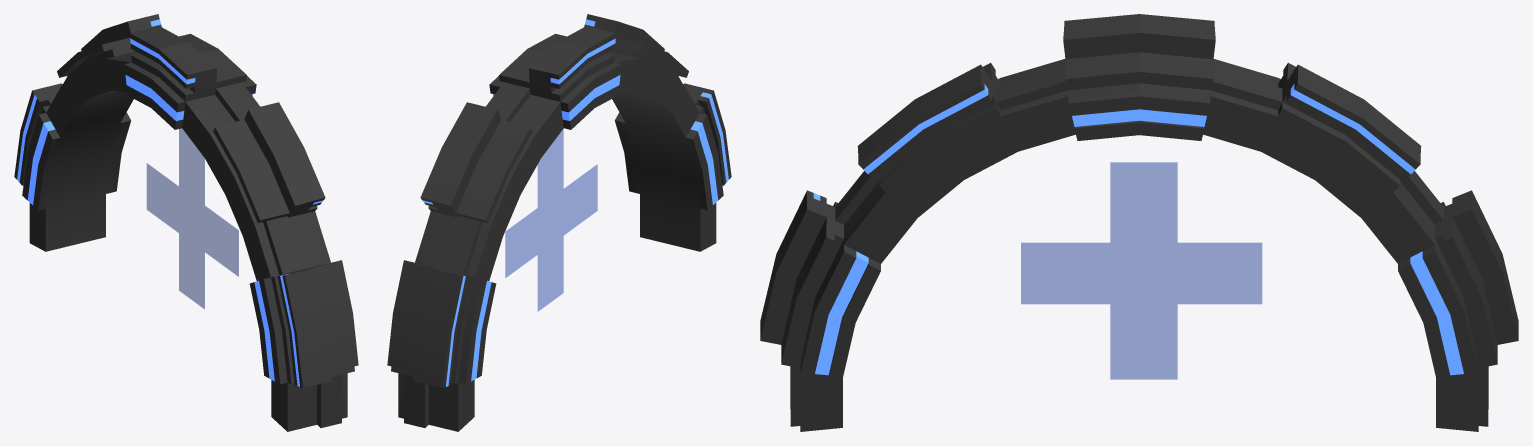
The model's file is gate_ground_blue.fbx.
The picture shows the model from 3 angles, left to right: view 1: azimuth 30°, elevation 25°; view 2: azimuth 150°, elevation 25°; view 3: azimuth 270°, elevation 25°; orthographic projection. The views are drawn at different scales.
Visible parts, largest first — view 1: gate_groud_blue; view 2: gate_groud_blue; view 3: gate_groud_blue.
Boxes of the visible parts, bbox=[...] form: gate_groud_blue: bbox=[14, 14, 358, 431]; gate_groud_blue: bbox=[387, 14, 731, 431]; gate_groud_blue: bbox=[760, 14, 1518, 431].
Bounding box in the file's own units: 1.12 × 3.95 × 7.14.
